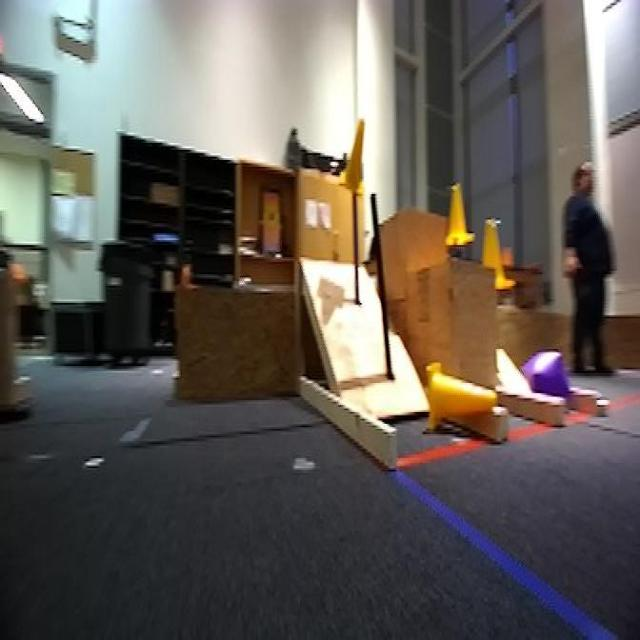frc_cone: (423, 359, 499, 432), (481, 216, 518, 293), (338, 117, 373, 194), (446, 186, 472, 248)
frc_cube: (523, 351, 566, 405)
